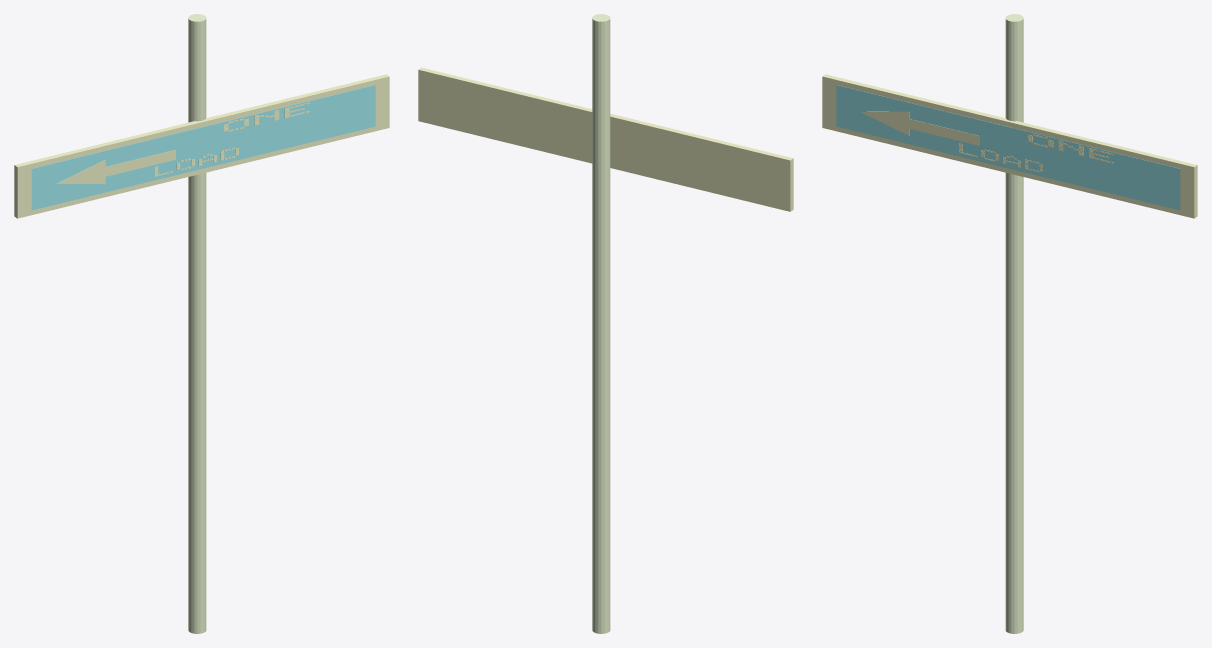
File: sign_loading_zone_arrow_left.glb
3 renders of one model, left to right at view 1: azimuth 30°, elevation 25°; view 2: azimuth 150°, elevation 25°; view 3: azimuth 330°, elevation 25°, orthographic.
Visible parts, largest first — view 1: layer_1_00, pole, plate_base_00, layer_2_00, layer_2_01; view 2: plate_base_00, pole; view 3: layer_1_00, pole, plate_base_00, layer_2_00, layer_2_01.
Part boxes in pixels (x1=…): layer_1_00: x1=31, y1=85, x2=375, y2=210; pole: x1=188, y1=14, x2=206, y2=633; plate_base_00: x1=14, y1=74, x2=389, y2=218; layer_2_00: x1=105, y1=150, x2=175, y2=176; layer_2_01: x1=56, y1=159, x2=105, y2=184; plate_base_00: x1=418, y1=67, x2=793, y2=211; pole: x1=592, y1=14, x2=610, y2=633; layer_1_00: x1=836, y1=85, x2=1180, y2=210; pole: x1=1005, y1=14, x2=1023, y2=633; plate_base_00: x1=822, y1=74, x2=1197, y2=218; layer_2_00: x1=909, y1=119, x2=979, y2=145; layer_2_01: x1=861, y1=111, x2=909, y2=135.
Bounding box in the file's own units: 1.4 × 2.2 × 0.0725.
